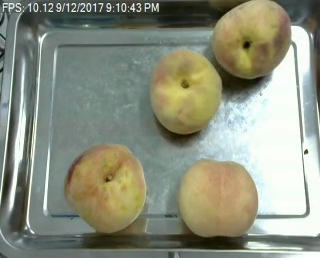Peach: (63, 143, 147, 233), (178, 157, 259, 238), (210, 0, 292, 80), (149, 47, 223, 134)
